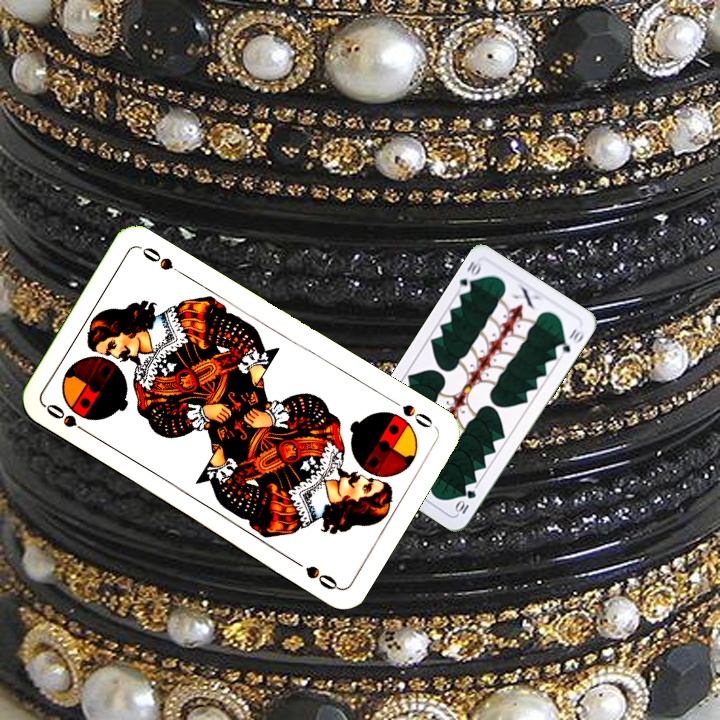G10: (454, 257, 485, 297), (452, 485, 479, 517)
SO: (41, 399, 94, 439), (385, 394, 436, 431)
